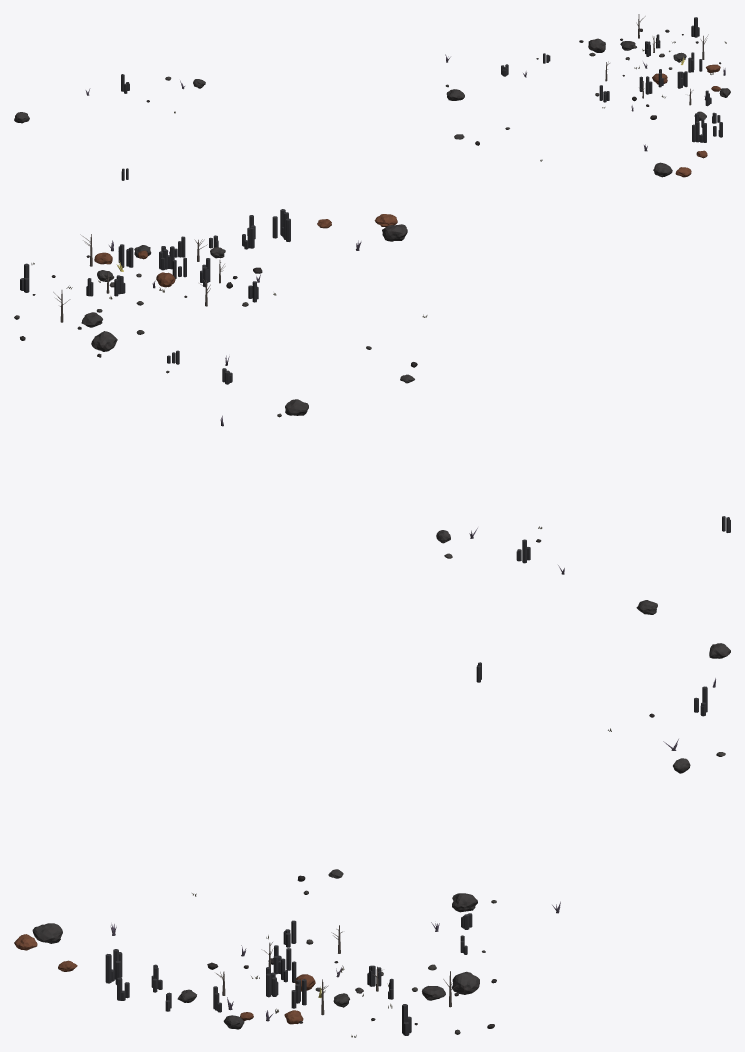
The model's file is ash_land_scatter_c22_31.glb.
The picture shows the model from 3 angles, top to bottom: view 1: azimuth 30°, elevation 25°; view 2: azimuth 150°, elevation 25°; view 3: azimuth 270°, elevation 25°; orthographic projection. The views are drawn at different scales.
Parts seen in each view (by area): view 1: ash_land_scatter_c22_31; view 2: ash_land_scatter_c22_31; view 3: ash_land_scatter_c22_31.
Boxes of the visible parts, bbox=[...] form: ash_land_scatter_c22_31: bbox=[14, 14, 730, 180]; ash_land_scatter_c22_31: bbox=[14, 209, 730, 614]; ash_land_scatter_c22_31: bbox=[14, 643, 730, 1037].
Size of the model in its own units: 190 by 16.83 by 135.
